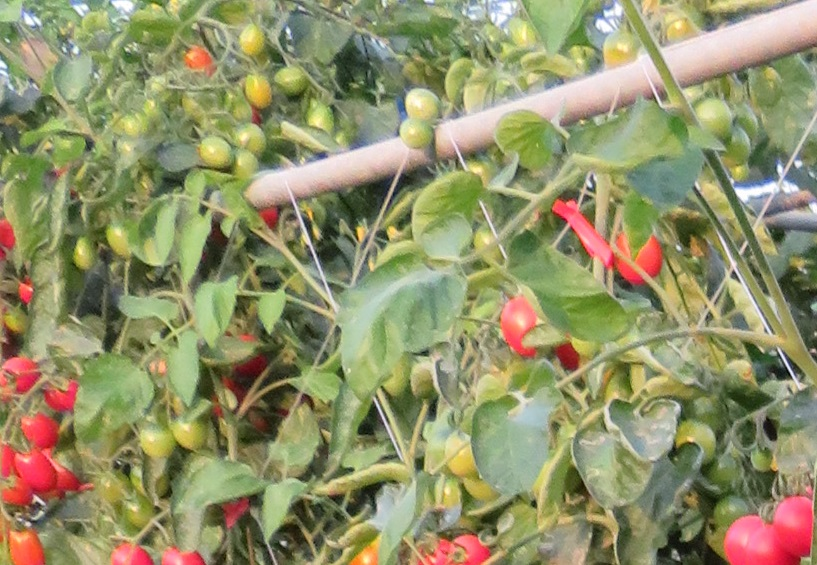green: (173, 409, 215, 446), (100, 216, 137, 258), (392, 115, 437, 149), (241, 74, 276, 114), (700, 99, 733, 141), (263, 64, 309, 94), (198, 131, 230, 168), (404, 88, 441, 119), (71, 235, 101, 270), (234, 149, 265, 179), (238, 23, 267, 55), (233, 122, 266, 149), (117, 114, 148, 141)
orange: (8, 522, 59, 565), (133, 420, 173, 457)
red: (722, 511, 786, 565), (616, 231, 665, 287), (773, 494, 813, 561), (9, 452, 59, 496), (500, 299, 536, 354), (22, 412, 60, 443)
